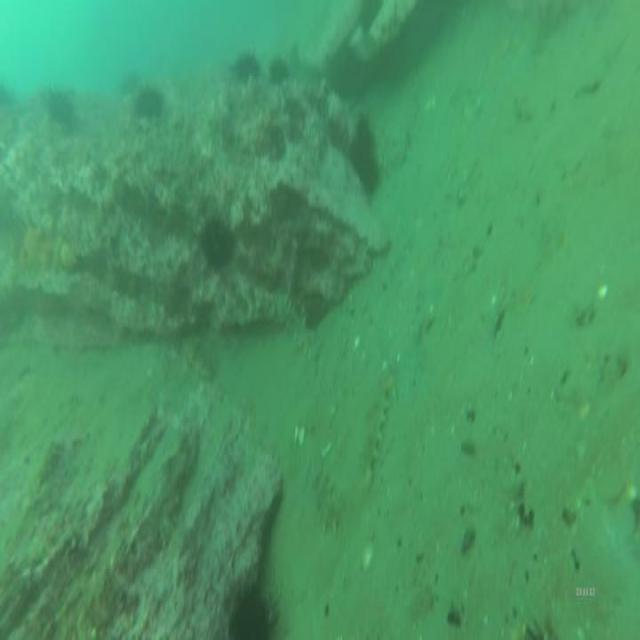echinus: (196, 208, 240, 276), (347, 112, 381, 193), (44, 84, 80, 132), (134, 84, 168, 126), (230, 48, 263, 82), (270, 54, 292, 84)
holothurian: (356, 359, 401, 480), (308, 452, 342, 544)
